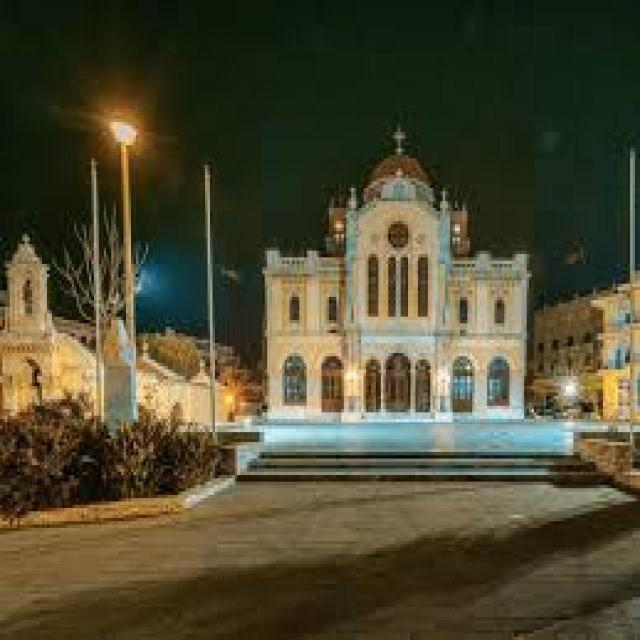Agios Minas: (263, 123, 535, 425)
